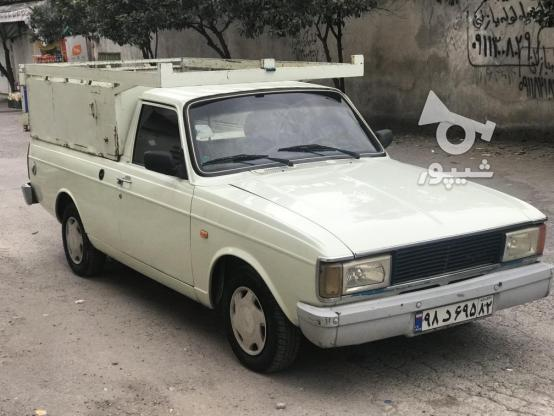car: (407, 295, 494, 331)
